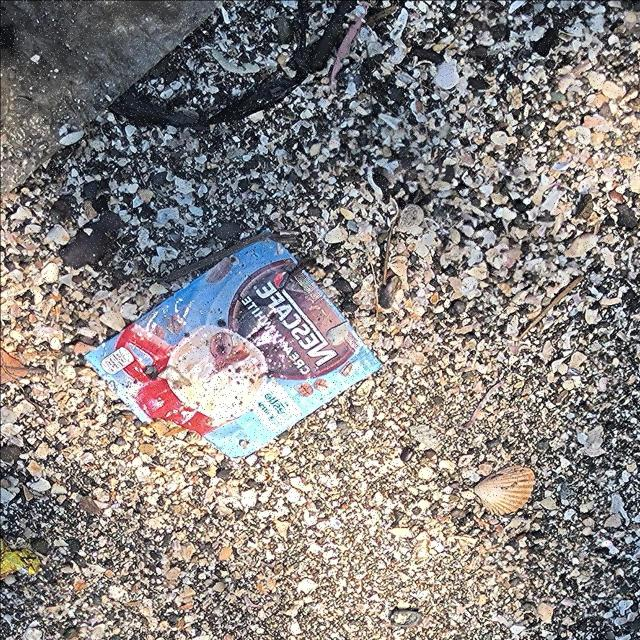plastic_waste: (83, 237, 386, 460)
